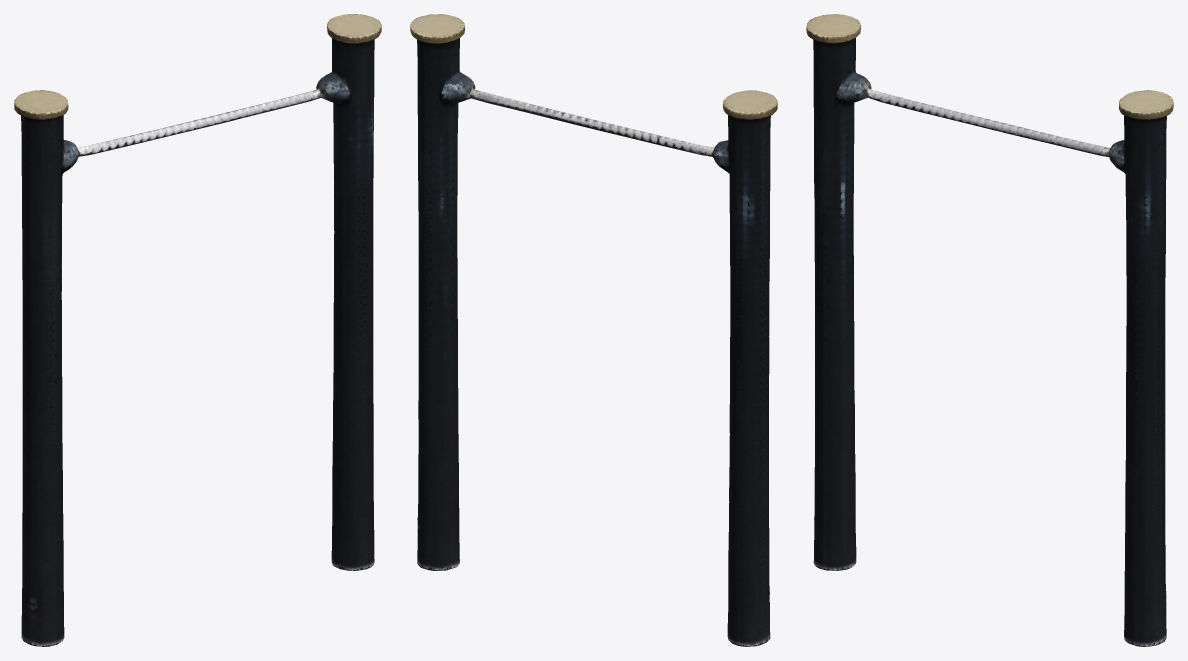
File: pullup-black.glb
3 renders of one model, left to right at view 1: azimuth 30°, elevation 25°; view 2: azimuth 150°, elevation 25°; view 3: azimuth 330°, elevation 25°, orthographic.
Visible parts, largest first — view 1: bar-black; view 2: bar-black; view 3: bar-black.
Boxes of the visible parts, <box> form: bar-black: <box>14,14,381,646</box>; bar-black: <box>410,14,777,646</box>; bar-black: <box>806,14,1173,646</box>.
Size of the model in its own units: 1.62 by 2.3 by 0.2224.
Materials: 1 (1 with a texture image).
